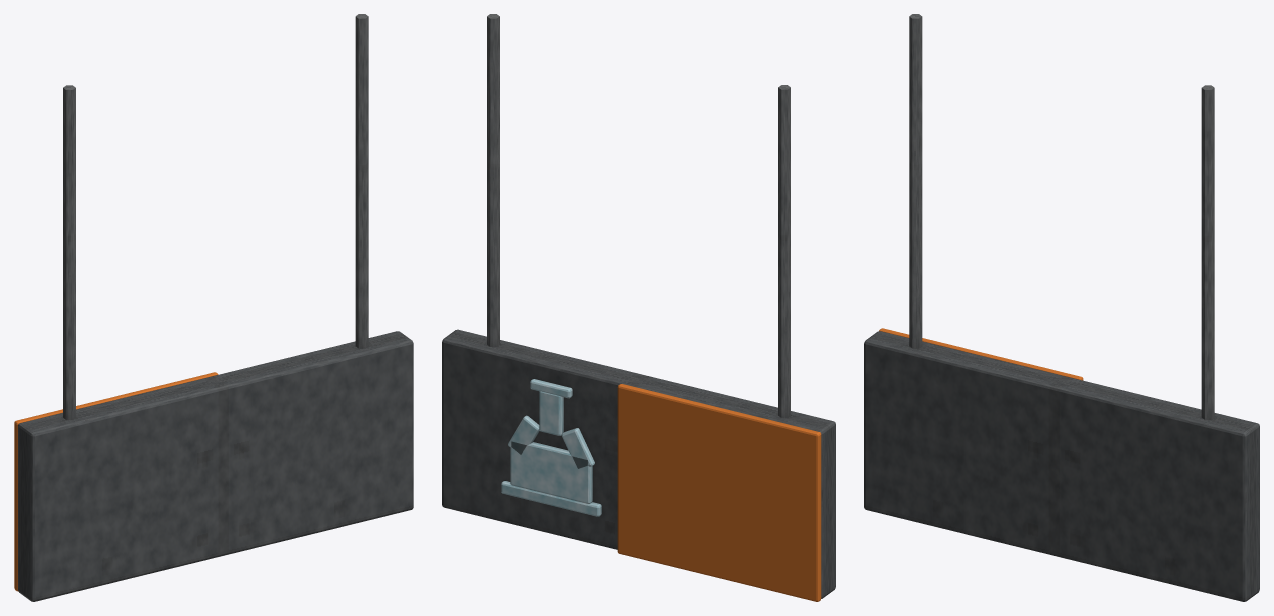
The model's file is base_hanging_sign_research.glb.
3 views of the same model, side by side, from view 1: azimuth 30°, elevation 25°; view 2: azimuth 150°, elevation 25°; view 3: azimuth 330°, elevation 25° (orthographic).
Visible parts, largest first — view 1: base_hanging_sign_research.002; view 2: base_hanging_sign_research.002; view 3: base_hanging_sign_research.002.
Part boxes in pixels (<box>): base_hanging_sign_research.002: <box>14,14,413,601</box>; base_hanging_sign_research.002: <box>442,14,835,601</box>; base_hanging_sign_research.002: <box>864,14,1259,601</box>.
Size of the model in its own units: 1.7 by 2.12 by 0.145.
Materials: 3 (3 with a texture image).
